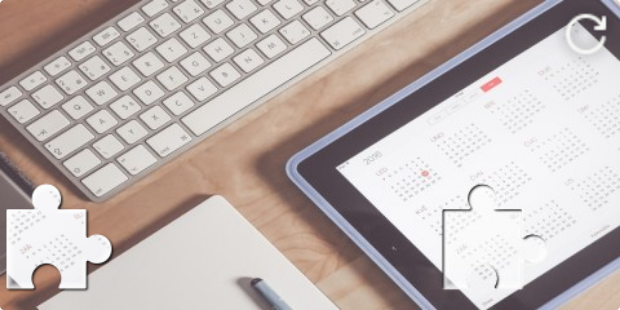target: (442, 183, 548, 289)
